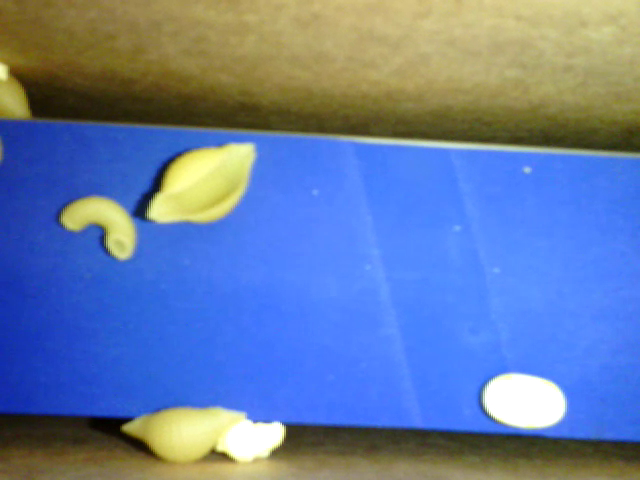elbow: (57, 192, 134, 260)
shell: (146, 142, 258, 229), (124, 407, 249, 464)
